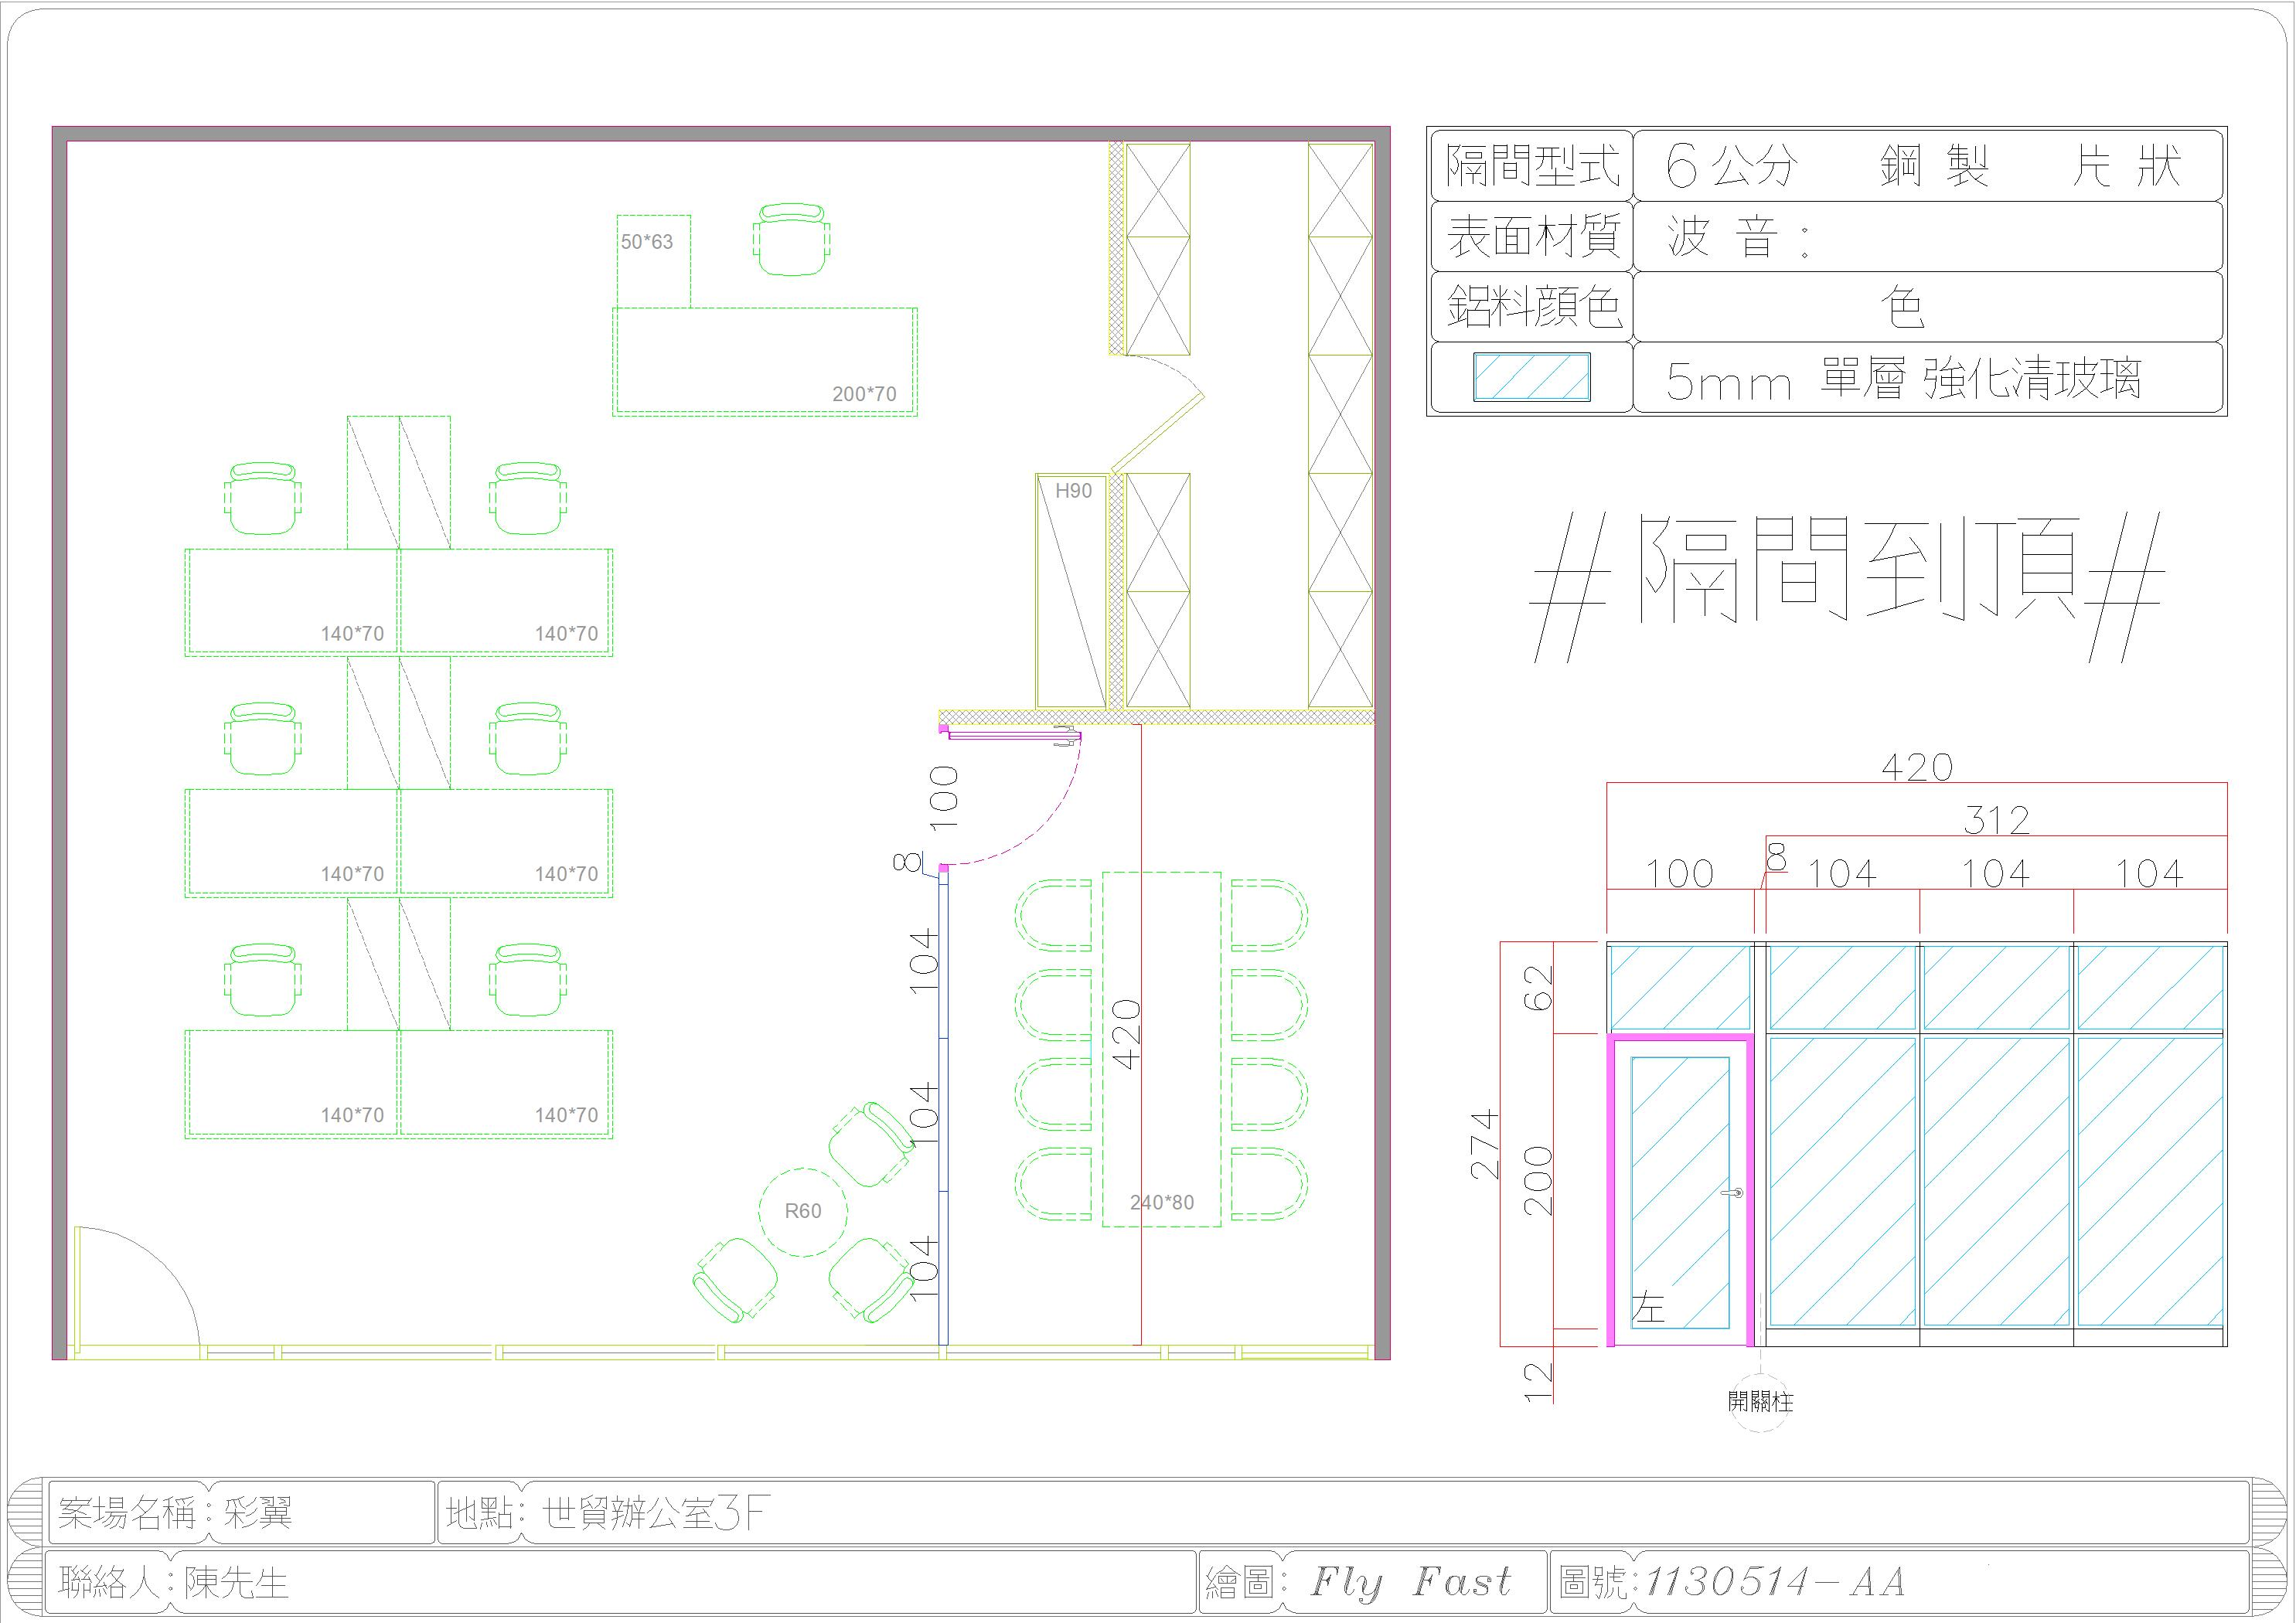SG: (1923, 1036, 2071, 1329), (1770, 945, 1916, 1029)
